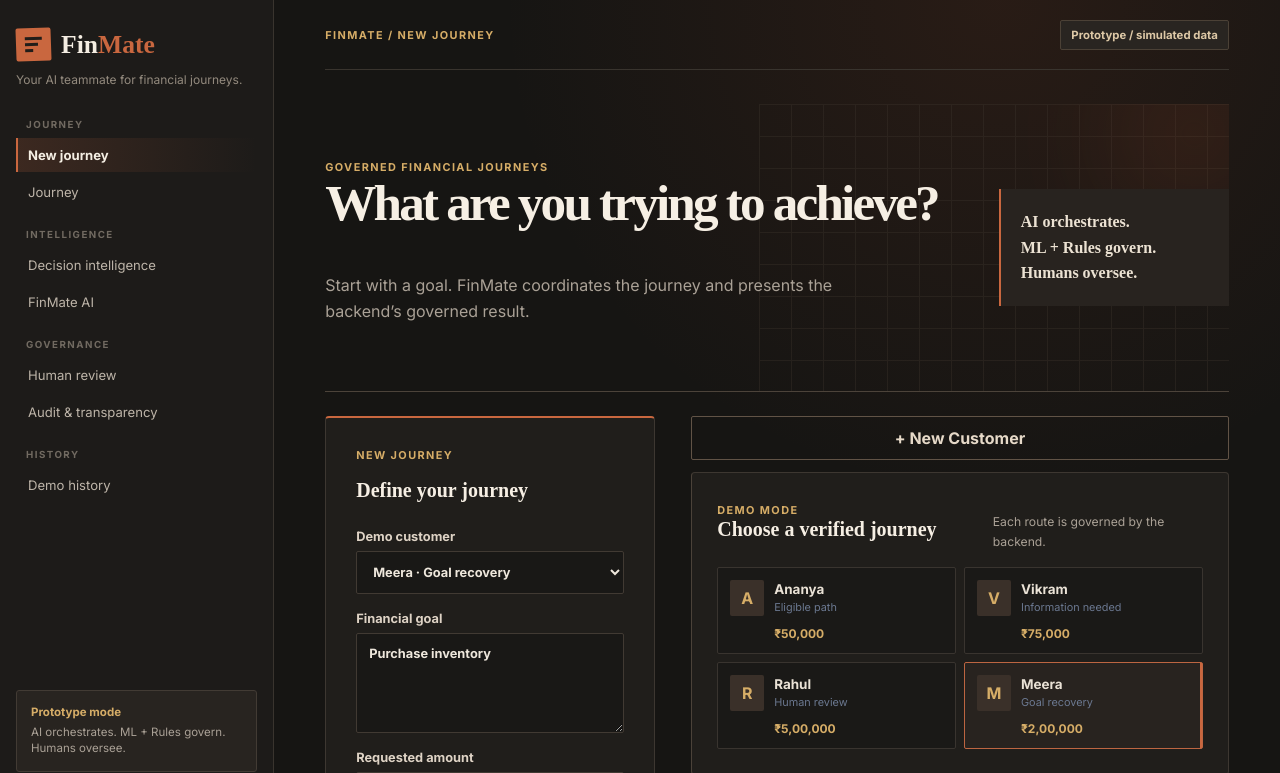
FinMate journey UI › validates custom customer intake before making an API request
Click the button "+ New Customer": (960, 438) x1=691 y1=416 x2=1229 y2=460
(page scrolled)
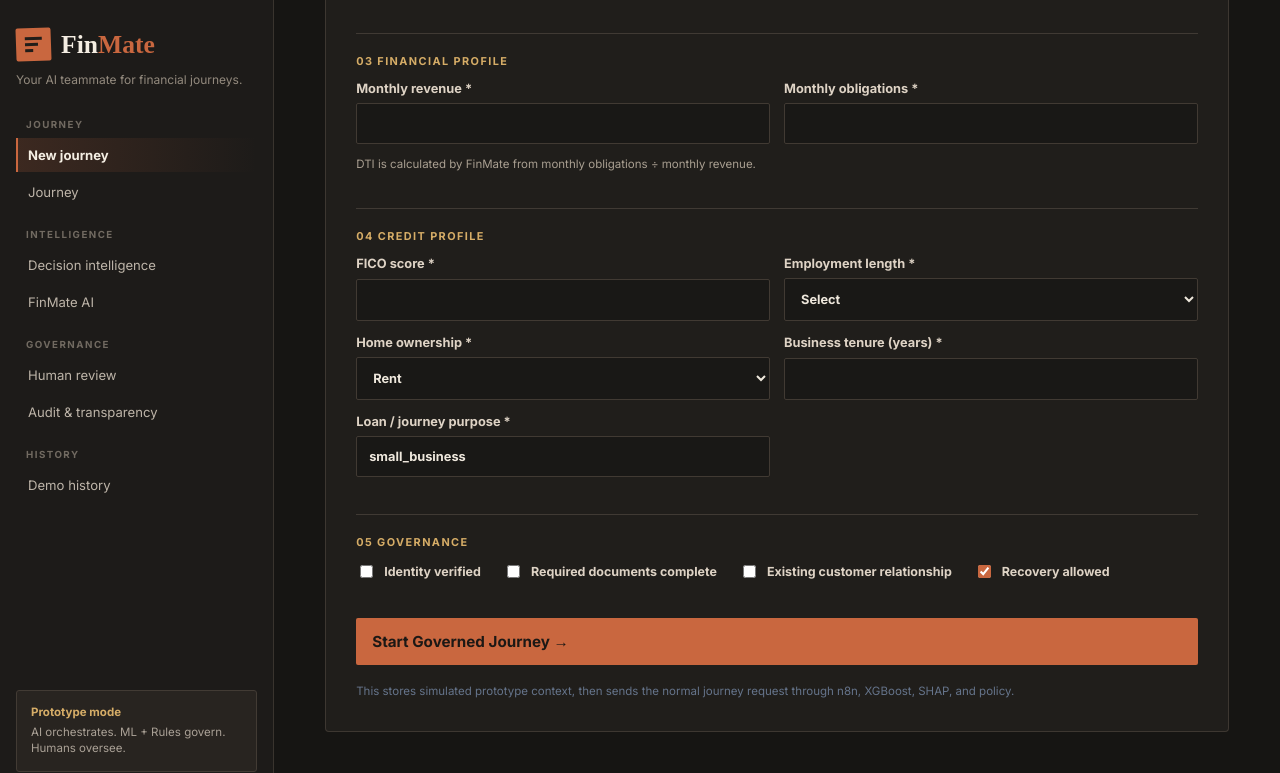
Click the button "Start Governed Journey →": (470, 642) x1=356 y1=618 x2=1198 y2=665
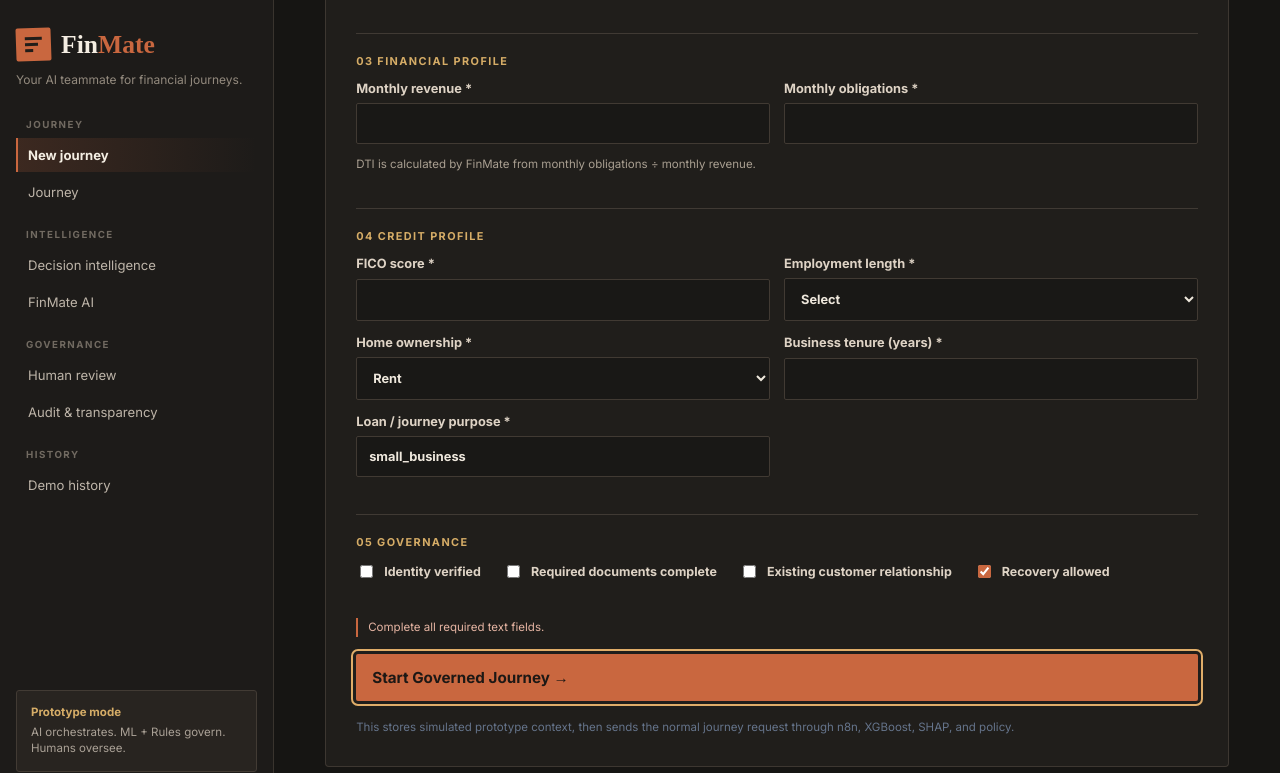
Check: the message shows "Complete all required text fields", box x1=368 y1=620 x2=544 y2=634
